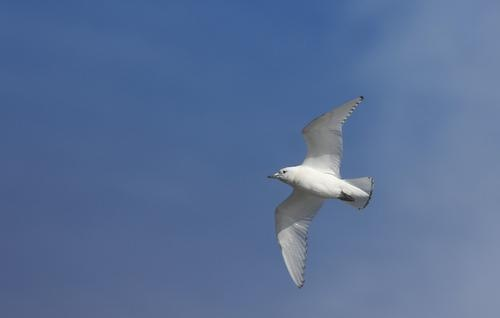bird: (264, 93, 378, 290)
